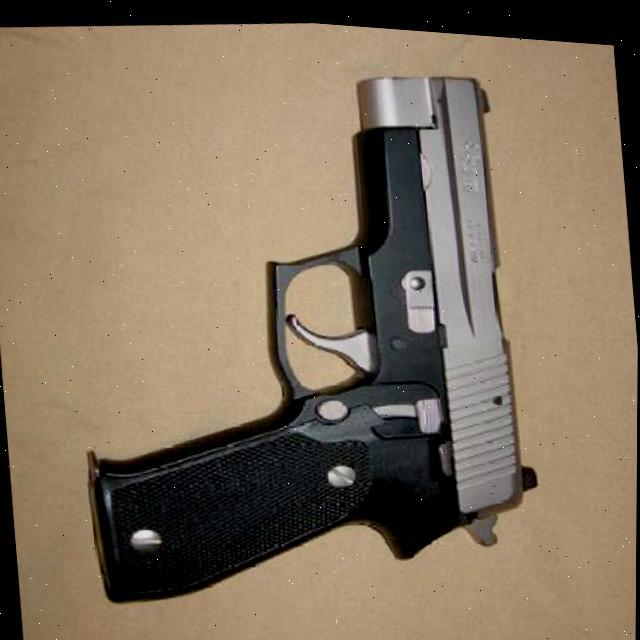gun: (56, 40, 552, 629)
